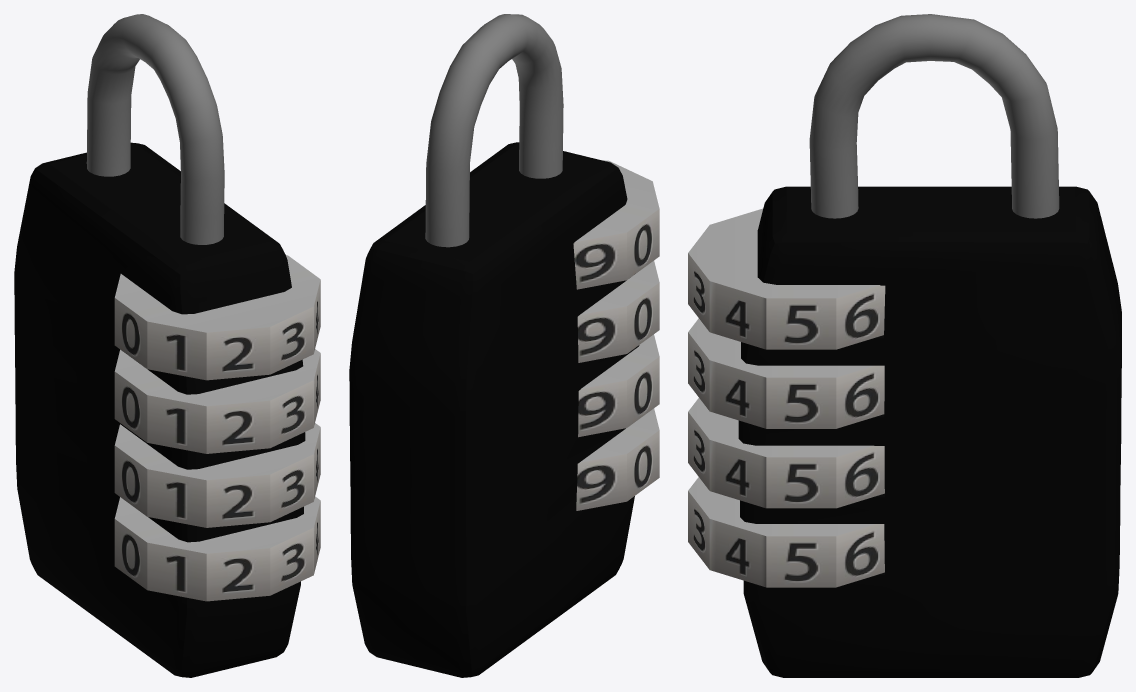
File: Lock.fbx
The picture shows the model from 3 angles, left to right: view 1: azimuth 30°, elevation 25°; view 2: azimuth 150°, elevation 25°; view 3: azimuth 270°, elevation 25°; orthographic projection. The views are drawn at different scales.
Visible parts, largest first — view 1: PadlockBase, Lock, Wheel_01, Wheel_02, Wheel_04, Wheel_03; view 2: PadlockBase, Lock, Wheel_01, Wheel_04, Wheel_02, Wheel_03; view 3: PadlockBase, Lock, Wheel_01, Wheel_02, Wheel_04, Wheel_03.
Part boxes in pixels (x1,y1,x2,y2): PadlockBase: (14, 142, 305, 677); Lock: (86, 14, 224, 244); Wheel_01: (114, 255, 320, 380); Wheel_02: (114, 349, 320, 453); Wheel_04: (114, 496, 320, 601); Wheel_03: (114, 423, 320, 527); PadlockBase: (349, 142, 639, 677); Lock: (425, 14, 563, 247); Wheel_01: (573, 160, 659, 289); Wheel_04: (576, 408, 659, 510); Wheel_02: (577, 261, 659, 362); Wheel_03: (578, 334, 659, 437); PadlockBase: (738, 186, 1121, 677); Lock: (809, 14, 1059, 218); Wheel_01: (688, 208, 885, 349); Wheel_02: (688, 318, 884, 428); Wheel_04: (688, 477, 884, 587); Wheel_03: (688, 398, 884, 508).
Size of the model in its own units: 219 by 717 by 441.
